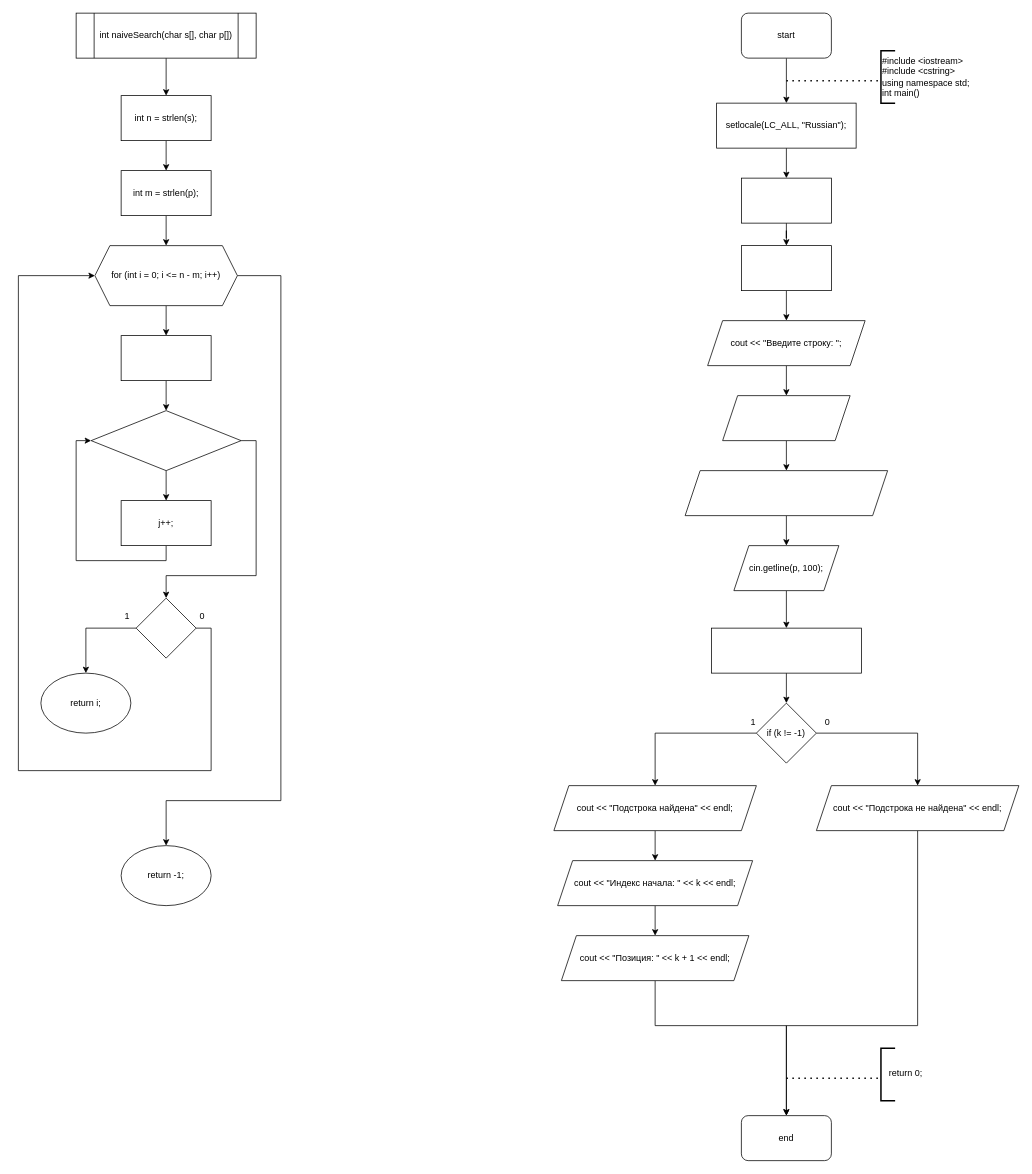
This 1032x1174 diagram has some shape labels left out. The shapes that lost their labels are listed below. From the top down, each one's centre as x and y in pixels, then its label:
pixel 786 200: char s[256];
pixel 786 268: char p[100];
pixel 165 358: int j = 0;
pixel 786 418: cin.getline(s, 256);
pixel 165 440: while (j < m && s[i + j] == p[j])
pixel 786 493: cout << "Введите подстроку для поиска: ";
pixel 165 627: if (j == m)
pixel 786 650: int k = naiveSearch(s, p);
